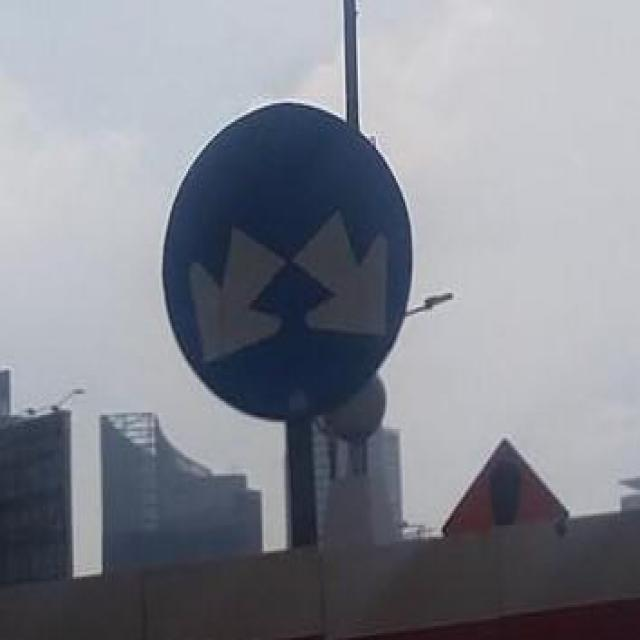traffic sign: (163, 101, 414, 424)
